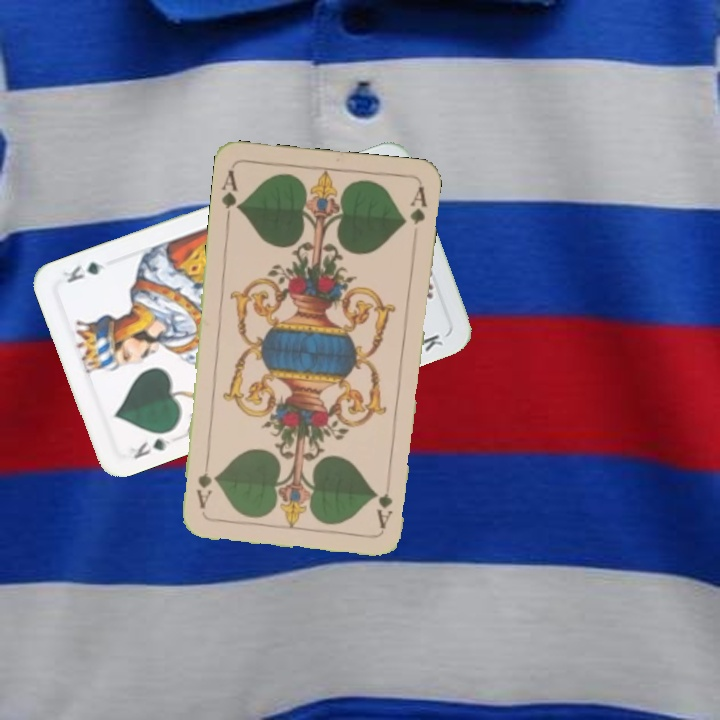GA: (217, 166, 244, 224), (372, 489, 396, 531)
GK: (129, 434, 173, 462)
